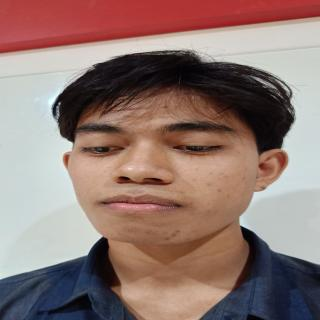Sedih: (64, 81, 272, 257)
